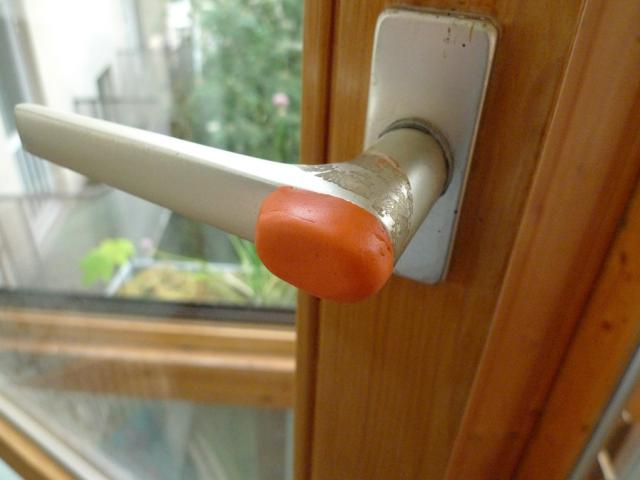Door-handle: (14, 4, 499, 302)
